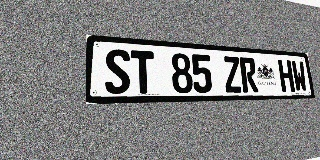5: (191, 54, 213, 93)
8: (171, 53, 193, 93)
H: (278, 60, 295, 92)
R: (239, 57, 259, 92)
S: (105, 48, 131, 94)
T: (131, 50, 155, 94)
W: (291, 60, 308, 92)
Z: (222, 56, 242, 93)
